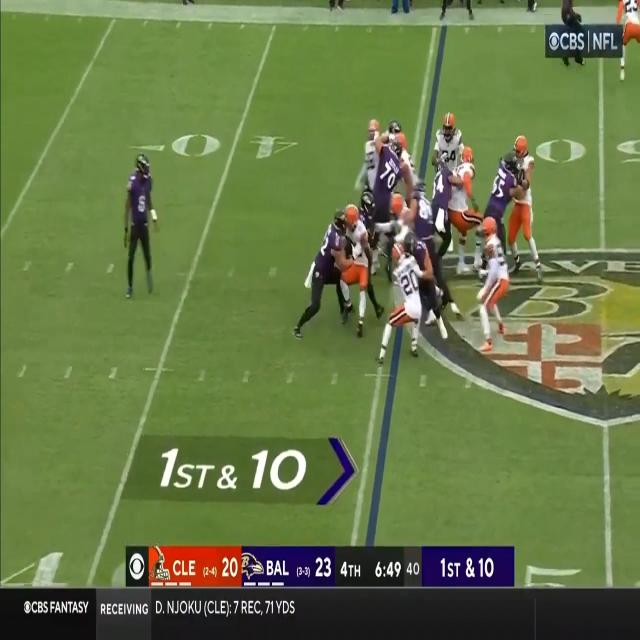players: (294, 211, 350, 344), (409, 218, 465, 341), (378, 250, 432, 366), (122, 149, 160, 306), (433, 152, 480, 276), (342, 200, 383, 330), (471, 224, 513, 350), (507, 135, 546, 270), (478, 155, 518, 275), (426, 115, 468, 217), (380, 127, 421, 231), (361, 119, 386, 217), (613, 0, 640, 87)
